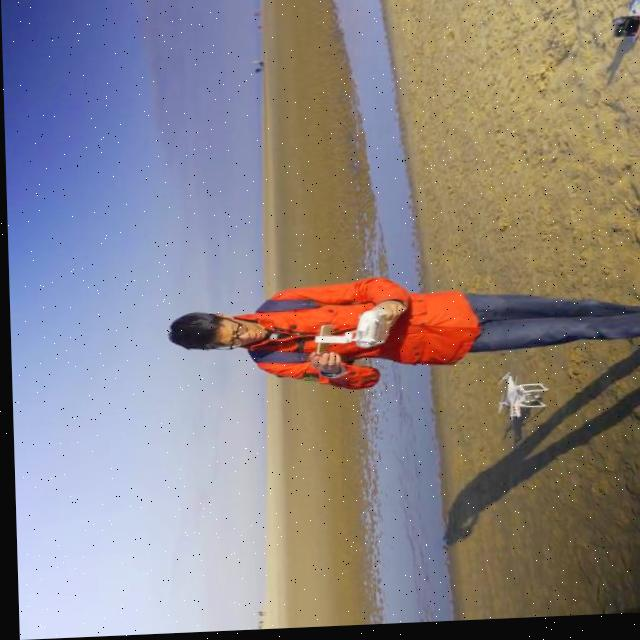drone: (486, 373, 545, 427)
